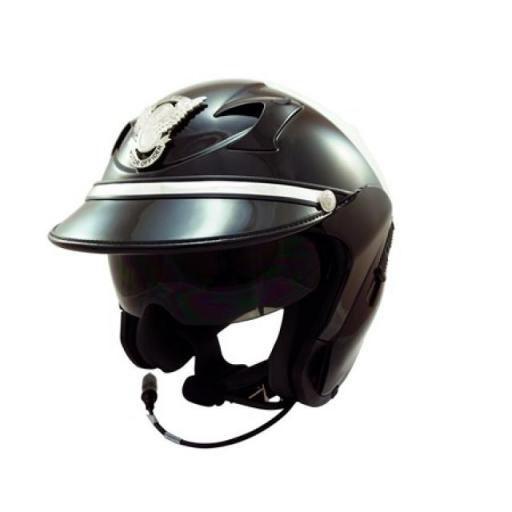Helmet: (49, 81, 392, 413)
